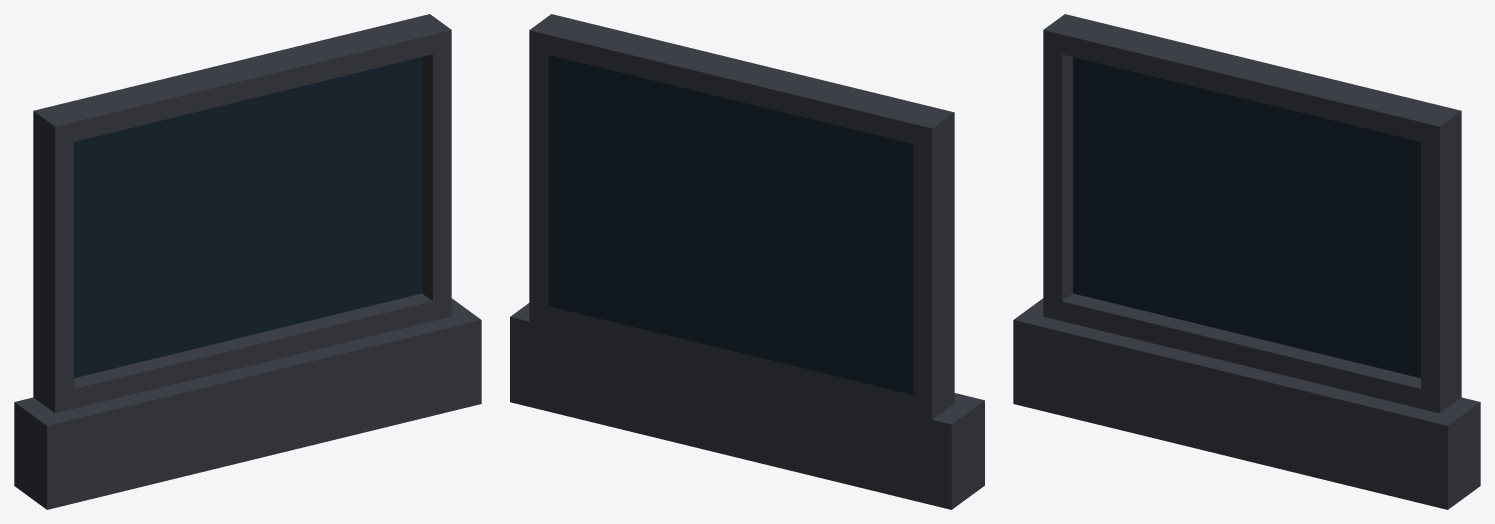
Rendered from like.fbx.
3 views of the same model, side by side, from view 1: azimuth 30°, elevation 25°; view 2: azimuth 150°, elevation 25°; view 3: azimuth 330°, elevation 25° (orthographic).
Parts seen in each view (by area): view 1: like; view 2: like; view 3: like.
Boxes of the visible parts, x1=… form: like: x1=14, y1=14, x2=481, y2=509; like: x1=510, y1=14, x2=984, y2=509; like: x1=1013, y1=14, x2=1480, y2=509.
Bounding box in the file's own units: 2300 × 1875 × 300.
